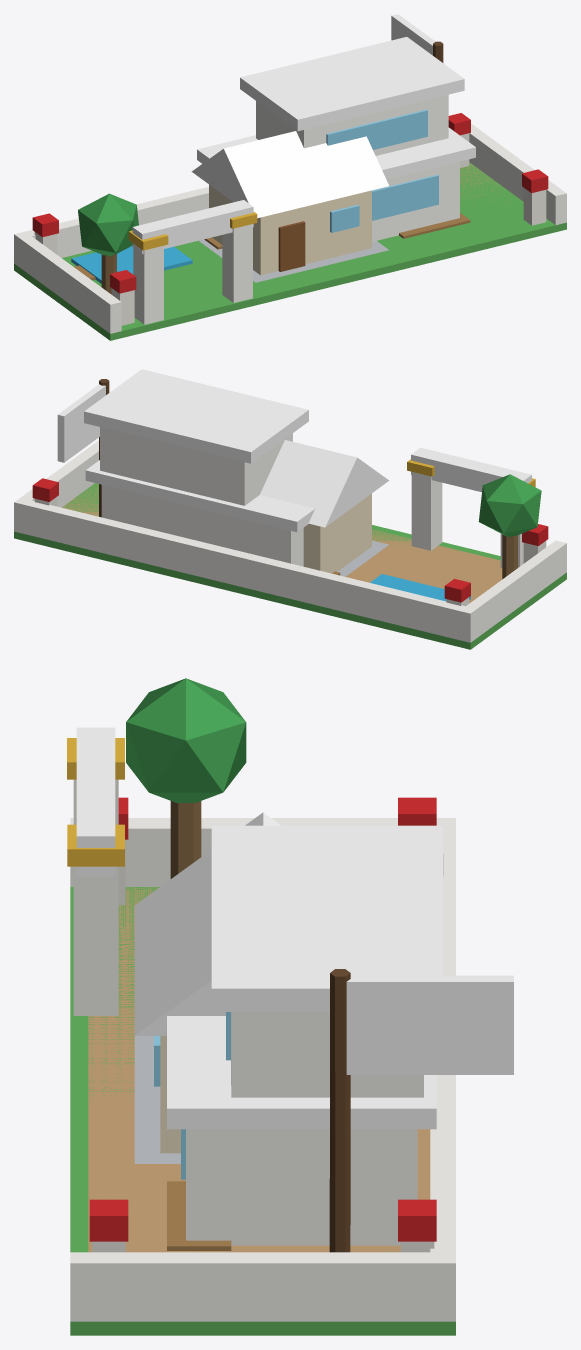
File: buildings.glb
The picture shows the model from 3 angles, top to bottom: view 1: azimuth 30°, elevation 25°; view 2: azimuth 150°, elevation 25°; view 3: azimuth 270°, elevation 25°; orthographic projection. The views are drawn at different scales.
Visible parts, largest first — view 1: Elit, KPR, Kavling; view 2: Elit, KPR, Kavling; view 3: Elit, Kavling, KPR.
Part boxes in pixels (left/top/right/bottom): Elit: left=14, top=37, right=566, bottom=340; KPR: left=191, top=131, right=388, bottom=282; Kavling: left=32, top=14, right=548, bottom=325; Elit: left=14, top=369, right=566, bottom=649; KPR: left=260, top=440, right=388, bottom=576; Kavling: left=32, top=379, right=548, bottom=606; Elit: left=67, top=678, right=455, bottom=1335; Kavling: left=88, top=797, right=513, bottom=1252; KPR: left=134, top=812, right=280, bottom=1163.
Size of the model in its own units: 0.8203 by 0.26 by 0.3477.
